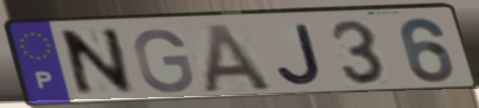3: (330, 17, 392, 88)
6: (396, 15, 457, 85)
A: (201, 21, 277, 96)
G: (131, 26, 197, 95)
J: (273, 22, 326, 88)
N: (62, 25, 139, 102)
